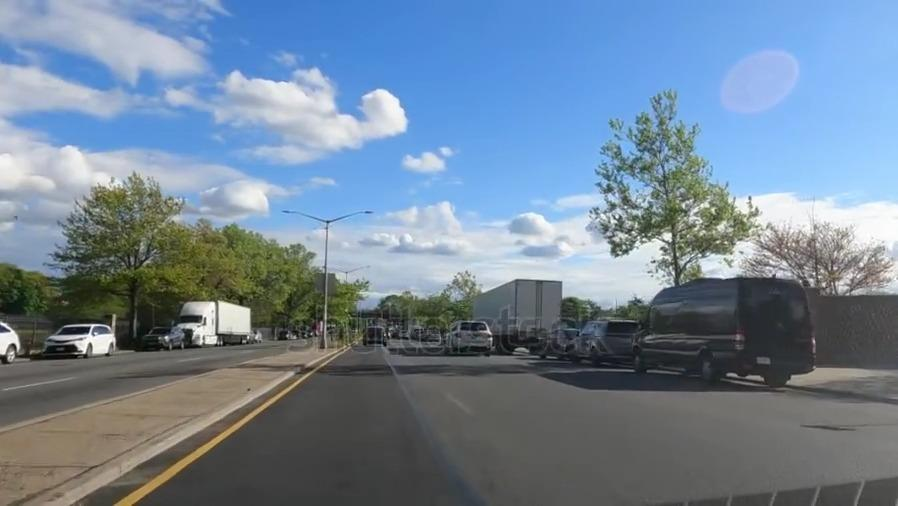car: (569, 317, 636, 363), (46, 322, 117, 359), (443, 321, 494, 358), (140, 326, 184, 352), (545, 326, 582, 356), (0, 321, 20, 366), (363, 325, 388, 347), (251, 330, 262, 344)
truck: (472, 281, 563, 349), (175, 300, 251, 348)
van: (632, 279, 815, 387)
